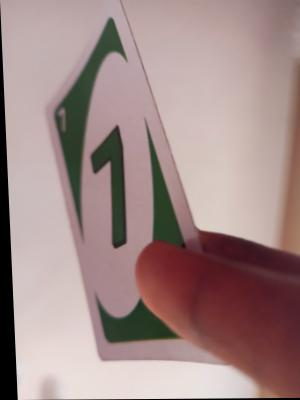green: (56, 98, 167, 230)
